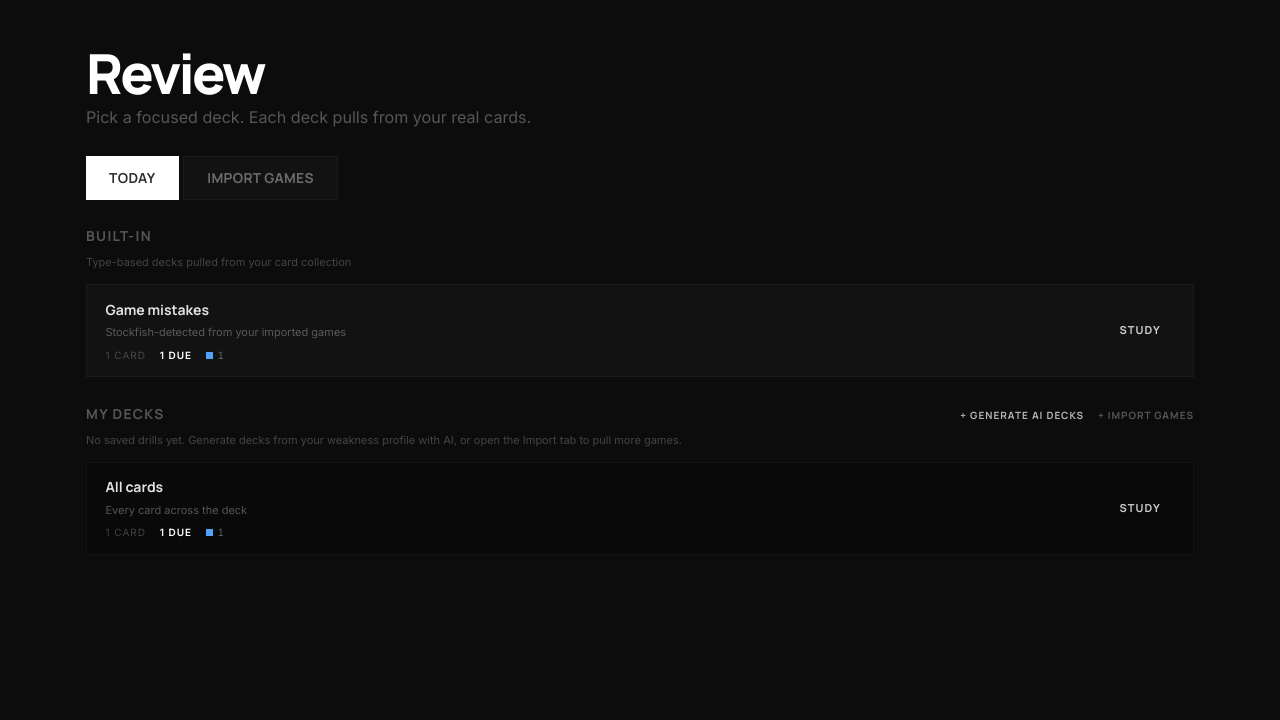
it: ReviewPage - deck browser (Today tab default view) › hides spoiler fields (engine line, eval loss, themes) before the user solves or reveals
This screenshot has width=1280, height=720.
Click the 1st button "Study". click: (1140, 331)
box: x1=1106 y1=316 x2=1175 y2=346
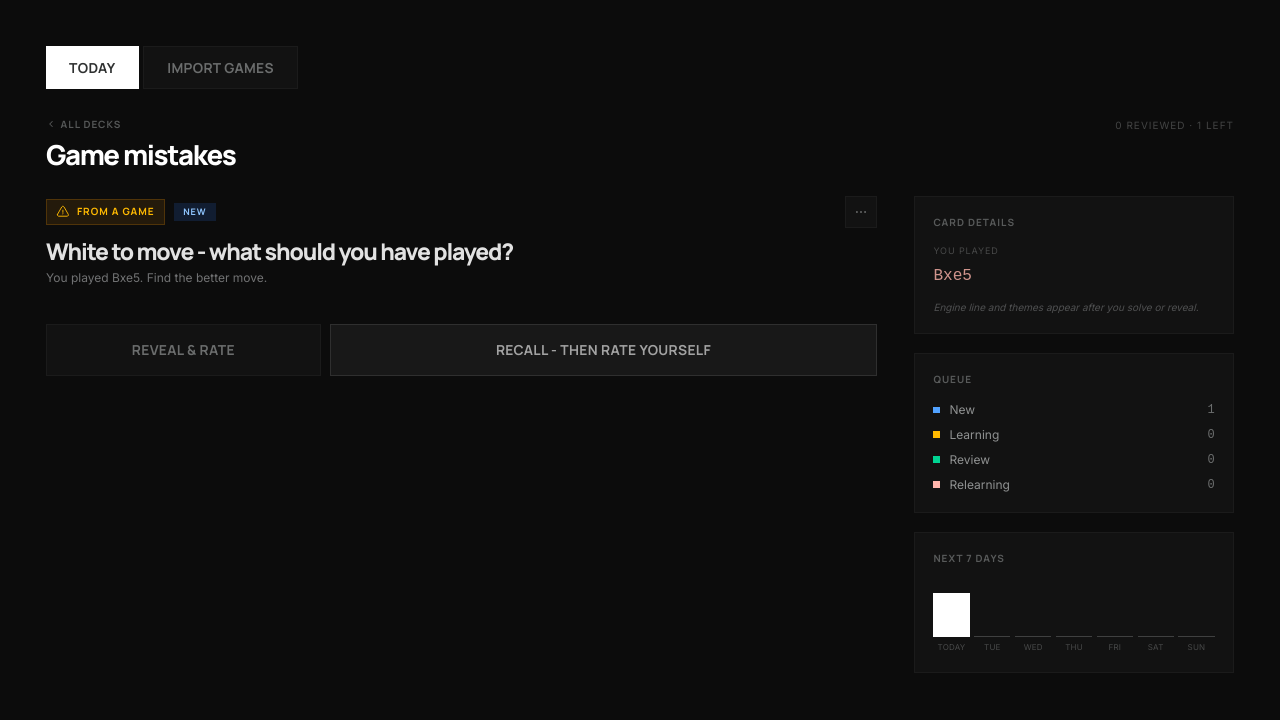
Expected: the text "You played Bxe5. Find the better move." is shown, x1=46 y1=270 x2=267 y2=285
Expected: the text "Engine line and themes appear after you solve or reveal." is shown, x1=933 y1=301 x2=1215 y2=315
